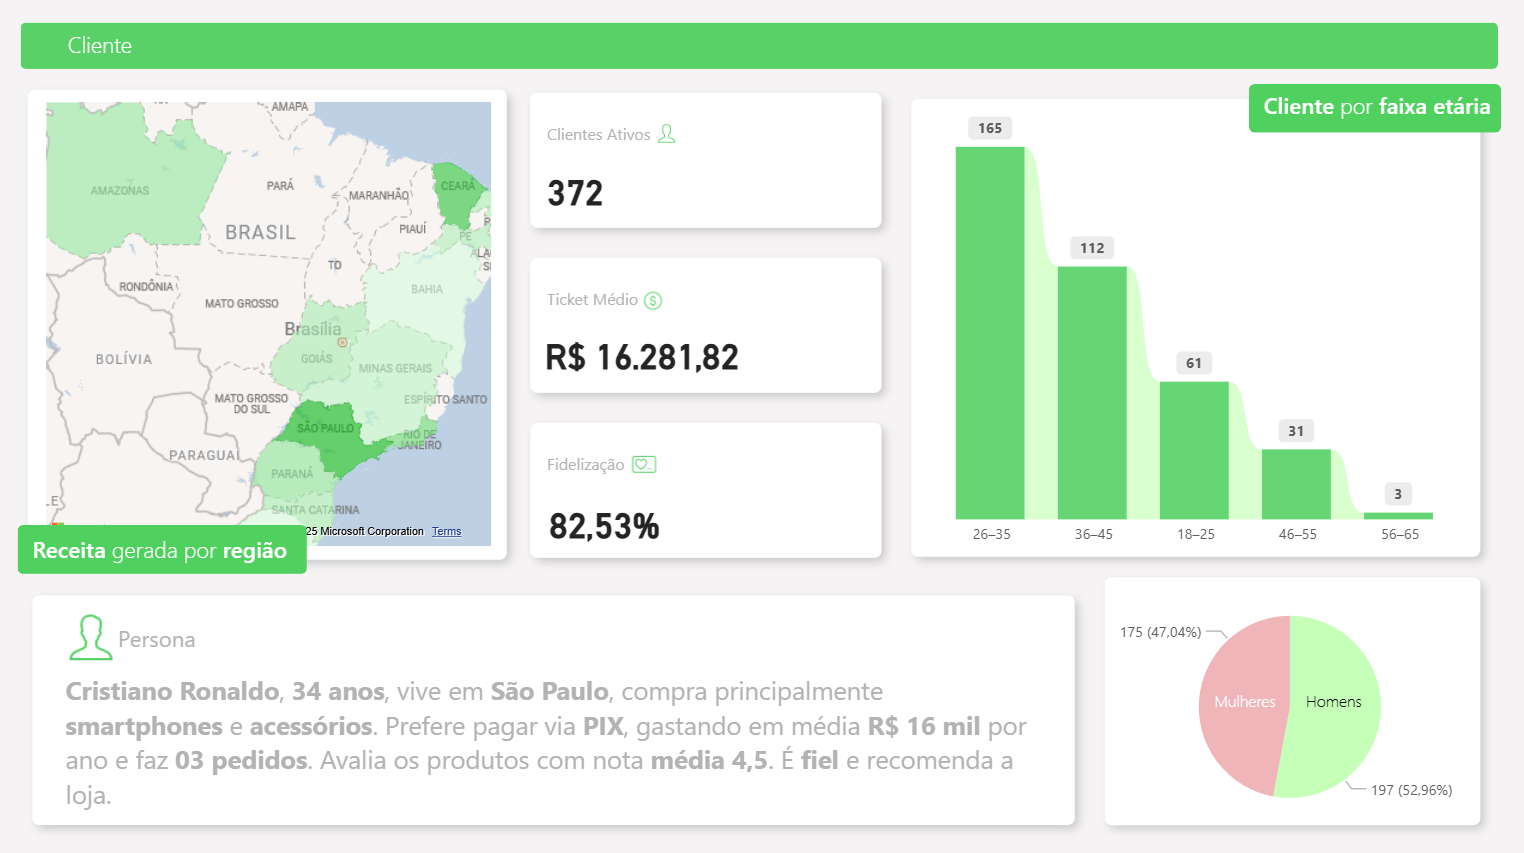

The dashboard page shown, as its layout file describes it:
{"tool":"powerbi","page":{"name":"Cliente","canvas":[1280,720],"ordinal":1},"visuals":[{"type":"group","id":"g1","title":"Aba Cliente","box":[20.8,21.2,1231.2,45],"z":0},{"type":"shape","box":[20.8,21.2,1231.2,38.8],"z":0,"group":"g1"},{"type":"shape","box":[14.6,64.6,423.8,416.2],"z":0,"group":"g5"},{"type":"shape","box":[433.8,67.5,317.1,137.1],"z":0,"group":"g2"},{"type":"shape","box":[750.8,73.3,498.8,406.2],"z":0,"group":"g6"},{"type":"shape","box":[433.9,204.5,317.1,137.1],"z":0,"group":"g3"},{"type":"shape","box":[433.8,342.5,317.1,137.1],"z":0,"group":"g4"},{"type":"shape","box":[912.4,471.1,337.5,231.2],"z":0,"group":"g7"},{"type":"shape","box":[18.5,486.3,893.3,216],"z":0,"group":"g8"},{"type":"textbox","box":[20.8,21.2,132.5,45],"z":1000,"group":"g1"},{"type":"group","id":"g2","title":"Card Clientes Ativos","box":[433.8,67.5,317.1,137.1],"z":1000},{"type":"filledMap","fields":{"Category":["Clientes.Estado"]},"box":[36.8,82.4,381.2,380],"z":1000,"group":"g5"},{"type":"columnChart","fields":{"Category":["Clientes.Faixa Etária"],"Y":["Medidas.clientesAtivos"]},"box":[760.8,87.1,478.8,378.8],"z":1000,"group":"g6"},{"type":"card","title":"Clientes Ativos","fields":{"Values":["Medidas.clientesAtivos"]},"box":[452.2,140,61.4,42.1],"z":1000,"group":"g2"},{"type":"card","title":"Clientes Ativos","fields":{"Values":["Labels.Receita por cliente"]},"box":[451.8,275.8,175.5,43.6],"z":1000,"group":"g3"},{"type":"card","title":"Fidelização","fields":{"Values":["Medidas.clientesRecorrentes"]},"box":[449.7,415.6,115,43.8],"z":1000,"group":"g4"},{"type":"pieChart","fields":{"Category":["Clientes.Sexo"],"Y":["Medidas.clientesAtivos"]},"box":[900.2,486.4,357.5,210],"z":1000,"group":"g7"},{"type":"textbox","box":[97.7,516.9,89,40],"z":1000,"group":"g8"},{"type":"shape","box":[1044.6,72.8,210,40.6],"z":2000,"group":"g6"},{"type":"image","box":[544.6,99,28.5,30],"z":2000,"group":"g2"},{"type":"group","id":"g3","title":"Card Receita Clientes","box":[433.9,204.5,317.1,137.1],"z":2000},{"type":"textbox","box":[454.9,235.9,118.3,30],"z":2000,"group":"g3"},{"type":"image","box":[521.3,373.7,38.8,31.2],"z":2000,"group":"g4"},{"type":"shape","box":[18.4,439.1,241.2,40.8],"z":2000,"group":"g5"},{"type":"image","box":[37.1,506.2,83.8,55],"z":2000,"group":"g8"},{"type":"textbox","box":[1011.4,571.1,80,33.8],"z":2000,"group":"g7"},{"type":"textbox","box":[1015.8,73.4,235.3,41.8],"z":3000,"group":"g6"},{"type":"textbox","box":[454.8,98.9,118.3,30],"z":3000,"group":"g2"},{"type":"image","box":[529.7,237,36.5,30.9],"z":3000,"group":"g3"},{"type":"group","id":"g4","title":"Card Fidelização","box":[433.8,342.5,317.1,137.1],"z":3000},{"type":"textbox","box":[454.8,373.9,118.3,30],"z":3000,"group":"g4"},{"type":"textbox","box":[25.4,442.6,233.3,42],"z":3000,"group":"g5"},{"type":"textbox","box":[53.3,557.5,820,128.8],"z":3000,"group":"g8"},{"type":"textbox","box":[1087.1,571.1,80,33.8],"z":3000,"group":"g7"},{"type":"group","id":"g5","title":"Mapa","box":[14.6,64.6,423.8,420],"z":4000},{"type":"group","id":"g6","title":"Grafico","box":[750.8,72.8,503.8,406.8],"z":5000},{"type":"group","id":"g7","title":"Distribuição Sexo","box":[900.2,471.1,357.4,230.9],"z":6000},{"type":"group","id":"g8","title":"Persona","box":[18.5,486.3,893.3,216],"z":7000}]}

Visuals, with their boxes in screenshot pixels (x1, y1, x2, y2), scaled from the page's 1280x720 canvas onto the 1524x853 screenshot:
"Aba Cliente" group: rect(25, 25, 1491, 78)
shape: rect(25, 25, 1491, 71)
shape: rect(17, 77, 522, 570)
shape: rect(516, 80, 894, 242)
shape: rect(894, 87, 1488, 568)
shape: rect(517, 242, 894, 405)
shape: rect(516, 406, 894, 568)
shape: rect(1086, 558, 1488, 832)
shape: rect(22, 576, 1086, 832)
textbox: rect(25, 25, 183, 78)
"Card Clientes Ativos" group: rect(516, 80, 894, 242)
filledMap - Clientes.Estado: rect(44, 98, 498, 548)
columnChart - Clientes.Faixa Etária x Medidas.clientesAtivos: rect(906, 103, 1476, 552)
"Clientes Ativos" card: rect(538, 166, 612, 216)
"Clientes Ativos" card: rect(538, 327, 747, 378)
"Fidelização" card: rect(535, 492, 672, 544)
pieChart - Clientes.Sexo x Medidas.clientesAtivos: rect(1072, 576, 1497, 825)
textbox: rect(116, 612, 222, 660)
shape: rect(1244, 86, 1494, 134)
image: rect(648, 117, 682, 153)
"Card Receita Clientes" group: rect(517, 242, 894, 405)
textbox: rect(542, 279, 682, 315)
image: rect(621, 443, 667, 480)
shape: rect(22, 520, 309, 569)
image: rect(44, 600, 144, 665)
textbox: rect(1204, 677, 1299, 717)
textbox: rect(1209, 87, 1490, 136)
textbox: rect(541, 117, 682, 153)
image: rect(631, 281, 674, 317)
"Card Fidelização" group: rect(516, 406, 894, 568)
textbox: rect(541, 443, 682, 479)
textbox: rect(30, 524, 308, 574)
textbox: rect(63, 660, 1040, 813)
textbox: rect(1294, 677, 1390, 717)
"Mapa" group: rect(17, 77, 522, 574)
"Grafico" group: rect(894, 86, 1494, 568)
"Distribuição Sexo" group: rect(1072, 558, 1497, 832)
"Persona" group: rect(22, 576, 1086, 832)
